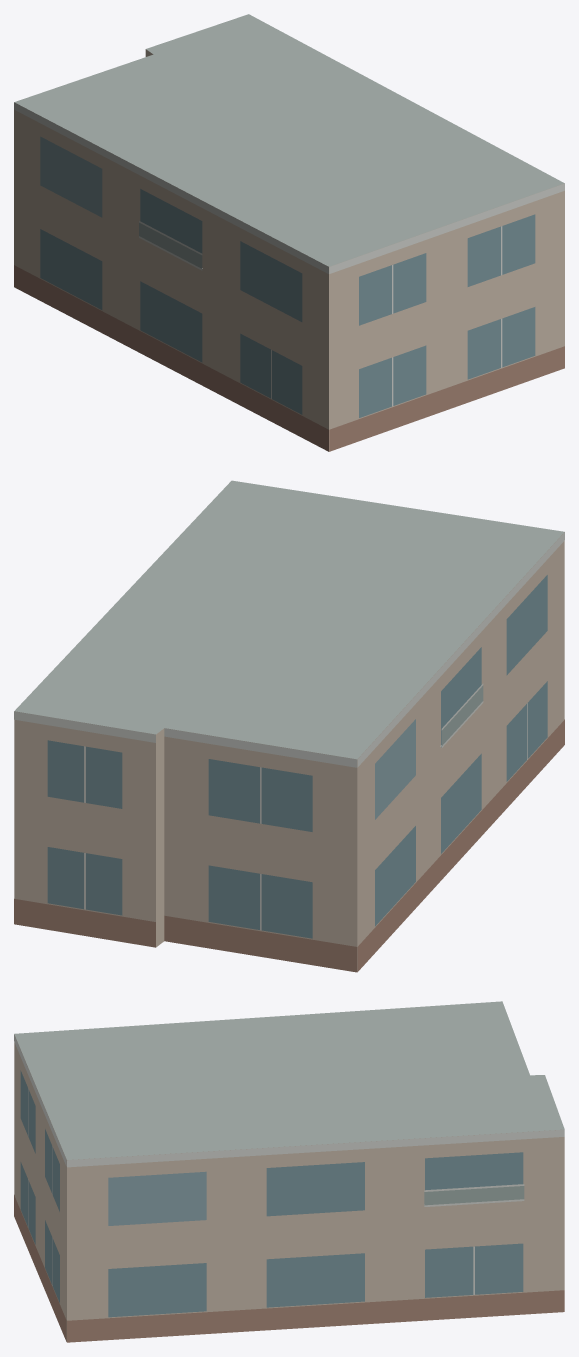
The model's file is survey-upis-32575233.glb.
3 views of the same model, one above another, from view 1: azimuth 30°, elevation 25°; view 2: azimuth 150°, elevation 25°; view 3: azimuth 270°, elevation 25° (orthographic). The views are drawn at different scales.
Visible parts, largest first — view 1: survey-upis-32575233.tmp; view 2: survey-upis-32575233.tmp; view 3: survey-upis-32575233.tmp.
Part boxes in pixels (bbox=[...]): survey-upis-32575233.tmp: bbox=[14, 14, 564, 451]; survey-upis-32575233.tmp: bbox=[14, 480, 564, 972]; survey-upis-32575233.tmp: bbox=[14, 1001, 564, 1342].
Bounding box in the file's own units: 11.4 × 6.1 × 16.7.
